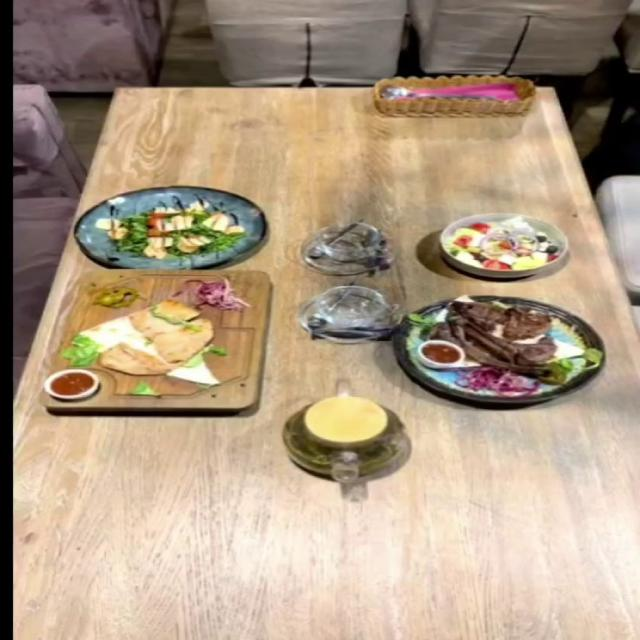meat: (390, 296, 606, 404)
salat: (68, 185, 260, 268), (438, 212, 570, 276)
tea: (280, 394, 410, 484)
